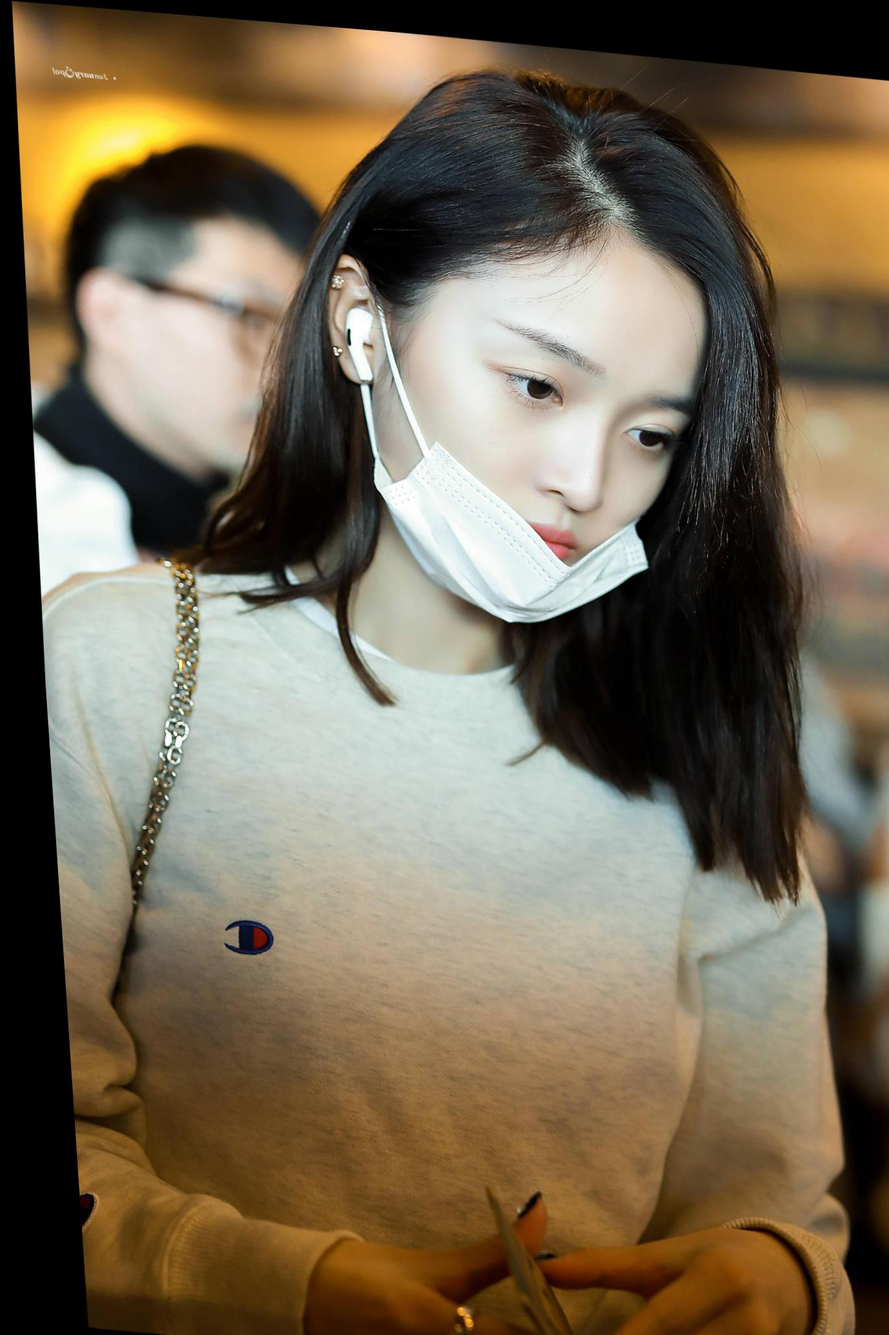NONE: (175, 258, 365, 485)
WRONG: (379, 260, 717, 622)
